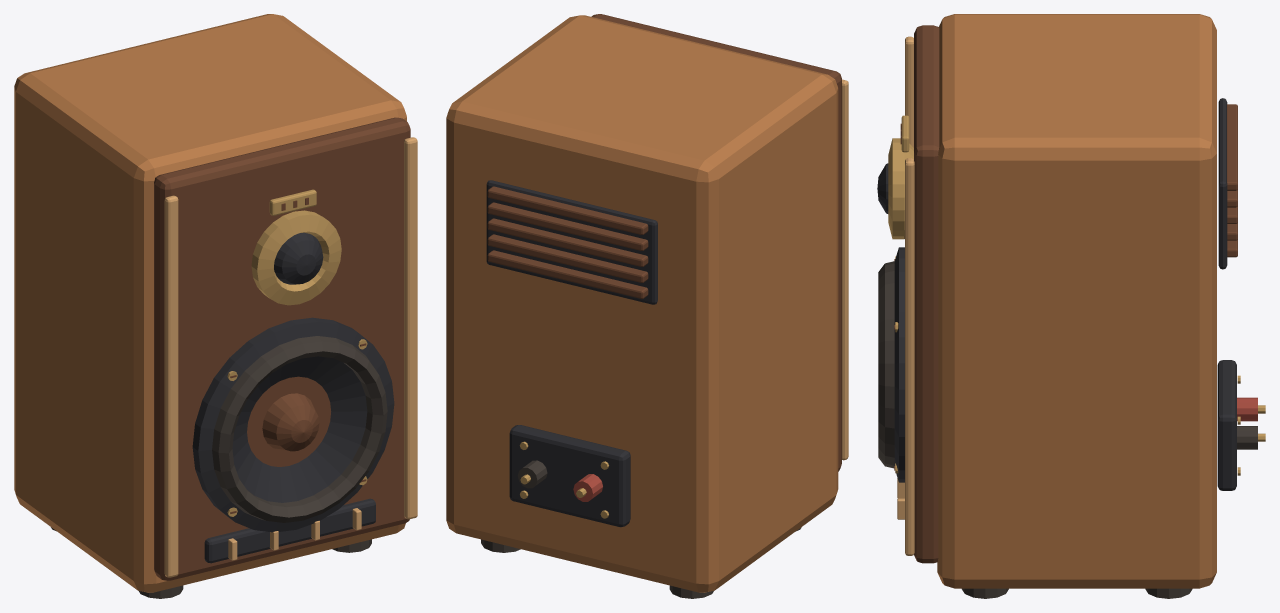
The model's file is 014_compact_desk_speaker_v01.glb.
3 views of the same model, side by side, from view 1: azimuth 30°, elevation 25°; view 2: azimuth 150°, elevation 25°; view 3: azimuth 270°, elevation 25° (orthographic). The views are drawn at different scales.
Visible parts, largest first — view 1: Speaker walnut enclosure, Speaker dark front baffle, Woofer rounded suspension, Recessed faceted woofer cone, Woofer mounting frame, Speaker left cedar stripe, Speaker right cedar stripe, Tweeter bezel, Low reflex port recess, Woofer central dome, Silk dome tweeter, Speaker makers badge; view 2: Speaker walnut enclosure, Rear terminal plate, Rear vent black well, Speaker dark front baffle, Speaker left cedar stripe, Rear vent louver.004, Rear vent louver.003, Rear vent louver.002, Rear vent louver.001, Rear vent louver, Rear binding post.001, Rear binding post; view 3: Speaker walnut enclosure, Speaker dark front baffle, Speaker right cedar stripe, Woofer rounded suspension, Rear terminal plate, Woofer mounting frame, Tweeter bezel, Rear vent black well, Rear vent louver.004, Speaker left cedar stripe, Rear binding post.
Boxes of the visible parts, bbox=[...] form: Speaker walnut enclosure: bbox=[14, 14, 406, 592]; Speaker dark front baffle: bbox=[154, 117, 410, 580]; Woofer rounded suspension: bbox=[212, 336, 387, 522]; Recessed faceted woofer cone: bbox=[232, 356, 367, 502]; Woofer mounting frame: bbox=[192, 317, 394, 532]; Speaker left cedar stripe: bbox=[164, 195, 178, 577]; Speaker right cedar stripe: bbox=[404, 137, 417, 519]; Tweeter bezel: bbox=[251, 210, 341, 305]; Low reflex port recess: bbox=[204, 498, 375, 563]; Woofer central dome: bbox=[262, 393, 319, 451]; Silk dome tweeter: bbox=[274, 232, 323, 284]; Speaker makers badge: bbox=[269, 189, 316, 215]; Speaker walnut enclosure: bbox=[446, 15, 838, 592]; Rear terminal plate: bbox=[509, 425, 630, 527]; Rear vent black well: bbox=[486, 180, 657, 304]; Speaker dark front baffle: bbox=[591, 14, 841, 471]; Speaker left cedar stripe: bbox=[842, 79, 848, 460]; Rear vent louver.004: bbox=[487, 186, 648, 234]; Rear vent louver.003: bbox=[487, 202, 648, 250]; Rear vent louver.002: bbox=[487, 218, 648, 266]; Rear vent louver.001: bbox=[487, 234, 648, 282]; Rear vent louver: bbox=[487, 250, 648, 298]; Rear binding post.001: bbox=[517, 460, 547, 488]; Rear binding post: bbox=[573, 474, 602, 501]; Speaker walnut enclosure: bbox=[937, 14, 1216, 588]; Speaker dark front baffle: bbox=[914, 25, 939, 563]; Speaker right cedar stripe: bbox=[905, 158, 914, 555]; Woofer rounded suspension: bbox=[878, 261, 894, 468]; Rear terminal plate: bbox=[1217, 360, 1236, 490]; Woofer mounting frame: bbox=[894, 247, 904, 482]; Tweeter bezel: bbox=[888, 138, 913, 239]; Rear vent black well: bbox=[1218, 98, 1227, 269]; Rear vent louver.004: bbox=[1227, 104, 1237, 190]; Speaker left cedar stripe: bbox=[905, 36, 913, 147]; Rear binding post: bbox=[1237, 397, 1257, 421].
Bounding box in the file's own units: 0.302 × 0.475 × 0.3595.
